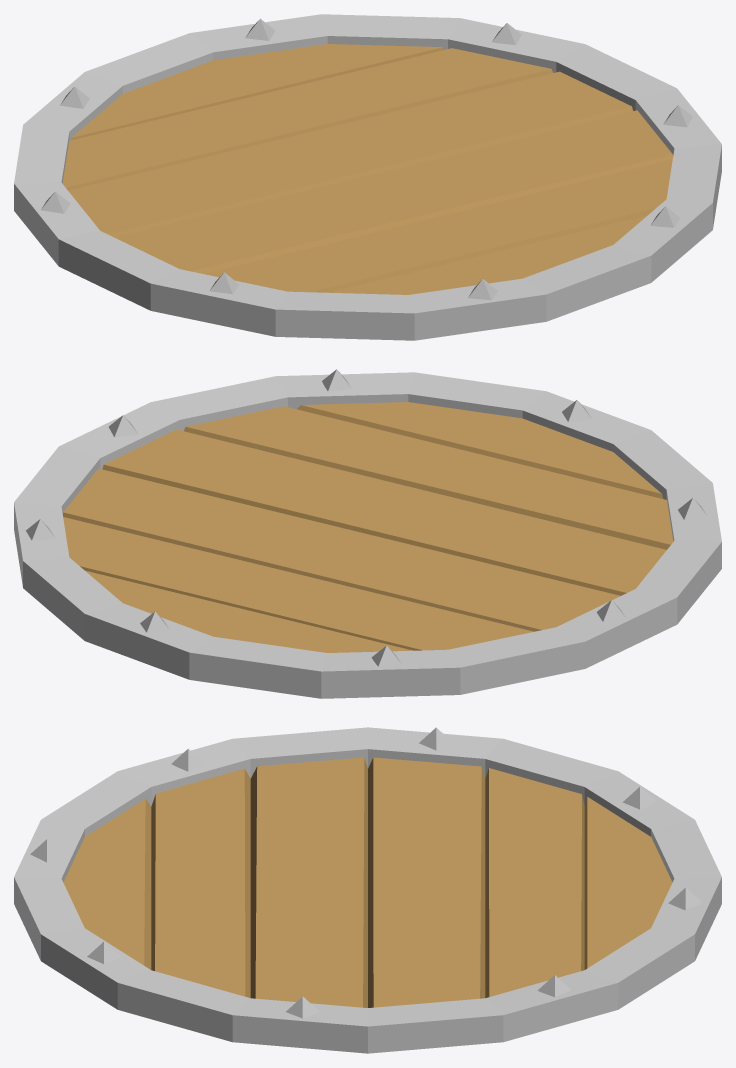
Rendered from Shield_1_b_wood.fbx.
The picture shows the model from 3 angles, top to bottom: view 1: azimuth 30°, elevation 25°; view 2: azimuth 150°, elevation 25°; view 3: azimuth 270°, elevation 25°; orthographic projection.
Parts seen in each view (by area): view 1: Circle.069, Circle.068; view 2: Circle.069, Circle.068; view 3: Circle.069, Circle.068.
Boxes of the visible parts, x1,y1,x2,y2 form: Circle.069: (62,44,672,294); Circle.068: (14,14,721,340); Circle.069: (63,402,673,652); Circle.068: (14,372,721,698); Circle.069: (63,757,672,1007); Circle.068: (14,727,721,1053).
Bounding box in the file's own units: 80.85 × 16.22 × 80.85.
